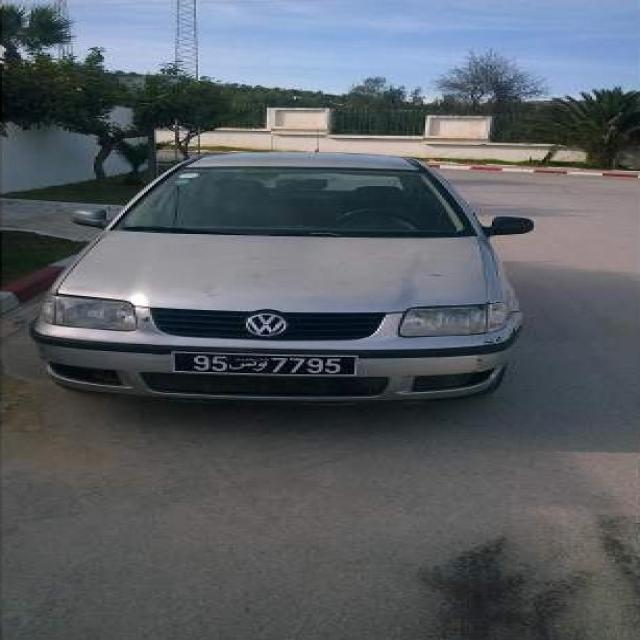licence plate: (175, 354, 354, 374)
